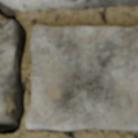brick: (26, 25, 137, 130), (0, 20, 18, 114)
broken_brick: (0, 0, 137, 11)
crack: (0, 2, 26, 135)
